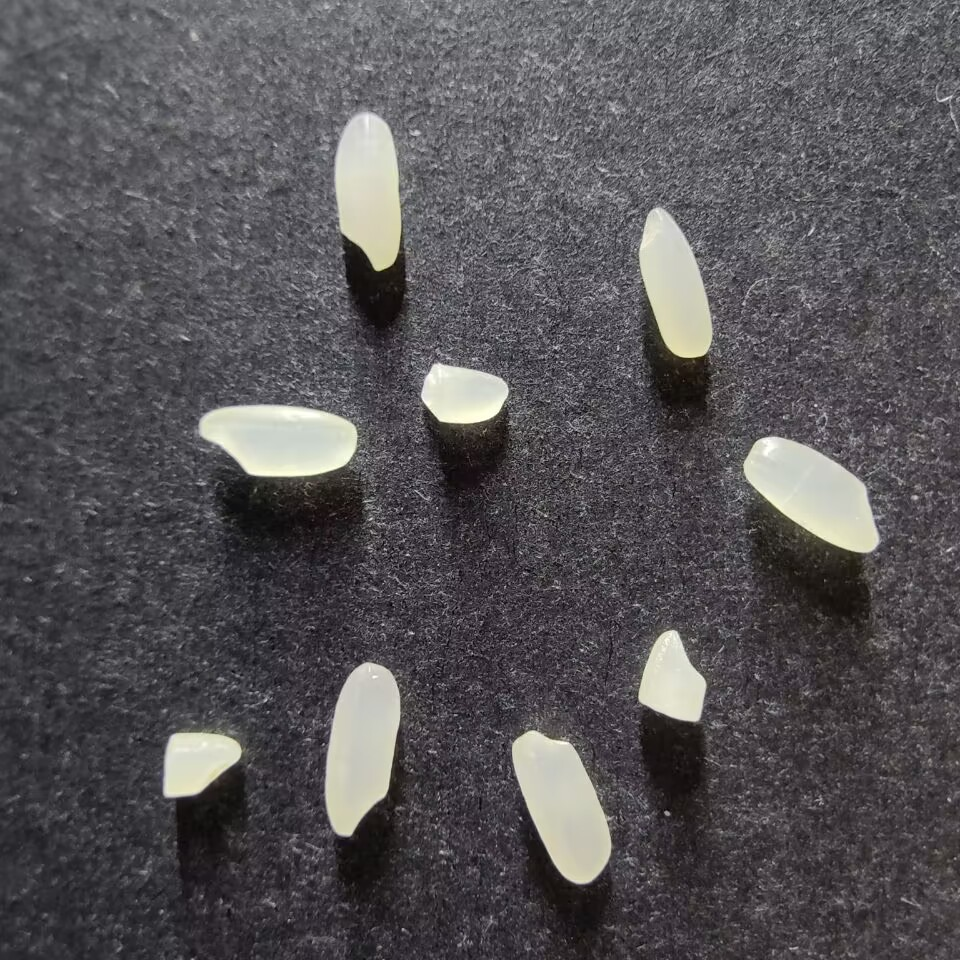broken: (636, 629, 708, 723), (420, 362, 510, 424), (160, 731, 244, 797)
rice: (742, 436, 880, 554), (510, 730, 611, 885), (323, 662, 401, 836), (198, 404, 356, 478), (637, 207, 713, 358), (333, 113, 400, 273)
